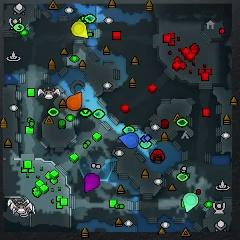p1: (120, 132, 139, 148)
p2: (184, 192, 197, 212)
p3: (84, 173, 99, 192)
p4: (71, 21, 88, 38)
p5: (67, 92, 83, 110)
